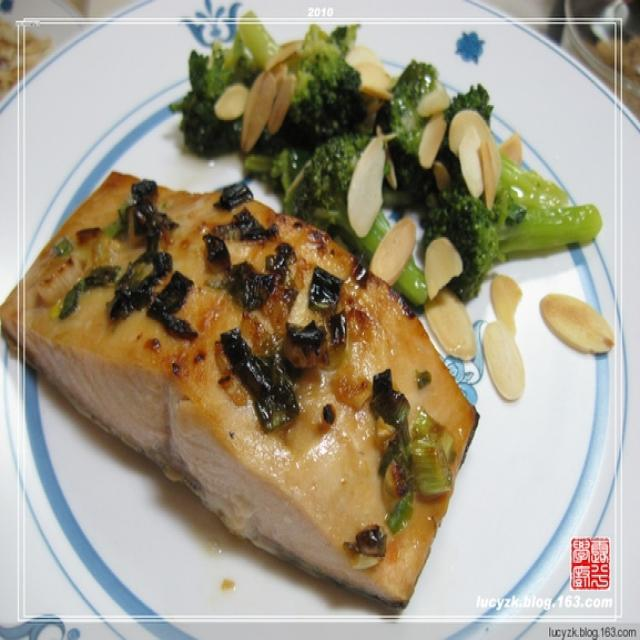熟制海鲜: (24, 27, 582, 588)
